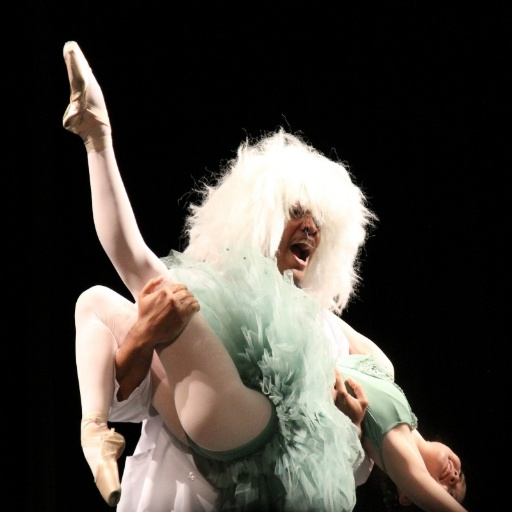hand: (137, 273, 199, 343), (328, 366, 369, 432)
